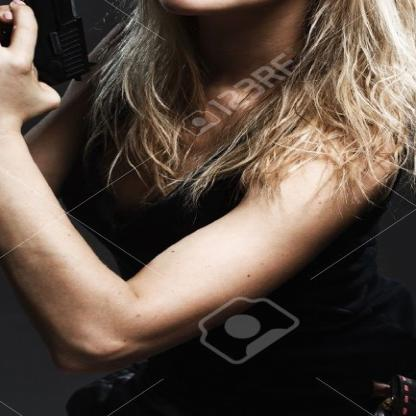gun: (0, 0, 108, 97)
